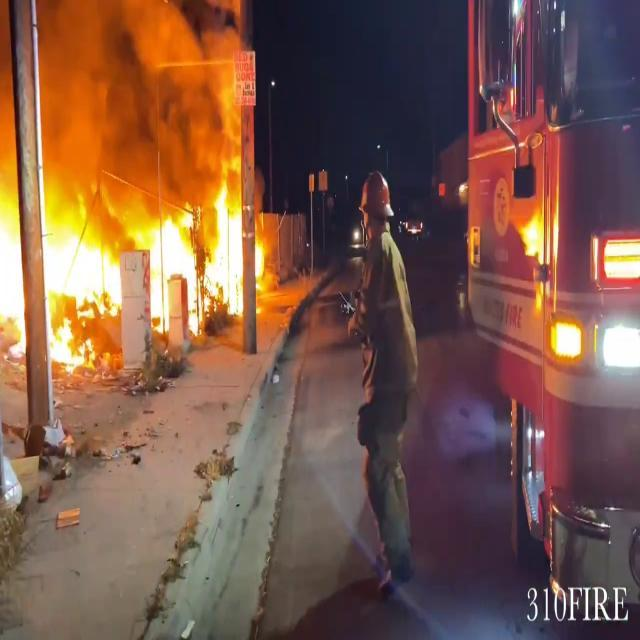Fire: (0, 158, 265, 358)
Smoke: (26, 0, 242, 182)
